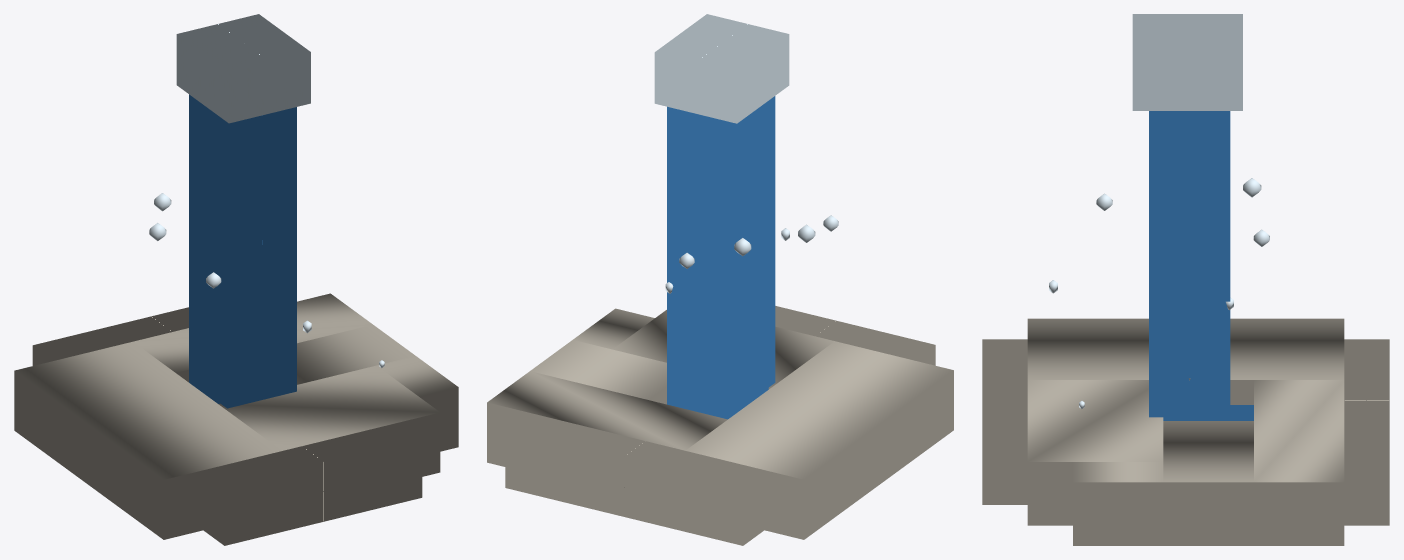
The model's file is geyser-pixor-blocky_lod1.glb.
The picture shows the model from 3 angles, left to right: view 1: azimuth 30°, elevation 25°; view 2: azimuth 150°, elevation 25°; view 3: azimuth 270°, elevation 25°; orthographic projection. The views are drawn at different scales.
Parts seen in each view (by area): view 1: Geyser mound, Geyser spout, Spout foam, Geyser drops; view 2: Geyser mound, Geyser spout, Spout foam, Geyser drops; view 3: Geyser mound, Geyser spout, Spout foam, Geyser drops.
Part boxes in pixels (<box>): Geyser mound: <box>14,293,458,545</box>; Geyser spout: <box>189,94,296,408</box>; Spout foam: <box>176,14,310,123</box>; Geyser drops: <box>149,193,384,367</box>; Geyser mound: <box>487,306,953,545</box>; Geyser spout: <box>667,96,775,419</box>; Spout foam: <box>654,14,789,123</box>; Geyser drops: <box>665,215,838,293</box>; Geyser mound: <box>982,318,1389,545</box>; Geyser spout: <box>1149,111,1230,420</box>; Spout foam: <box>1132,14,1242,110</box>; Geyser drops: <box>1049,178,1269,408</box>.
Bounding box in the file's own units: 1.81 × 2.21 × 1.9.
